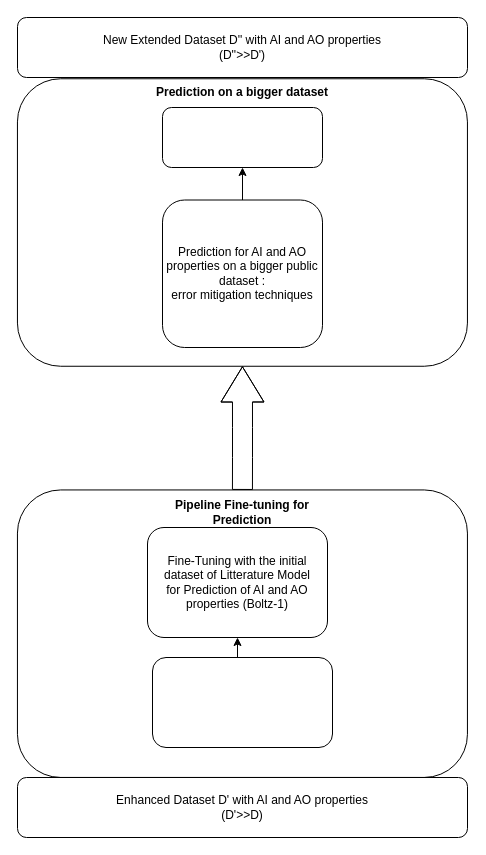
Some shapes in this 486 by 855 pixel diagram are drawn without their labels. The centre of each missing label's shape, as x and y in pixels:
New Extended Dataset D'': [242,137]
Optimization for Fine-Tuning: [242,702]
